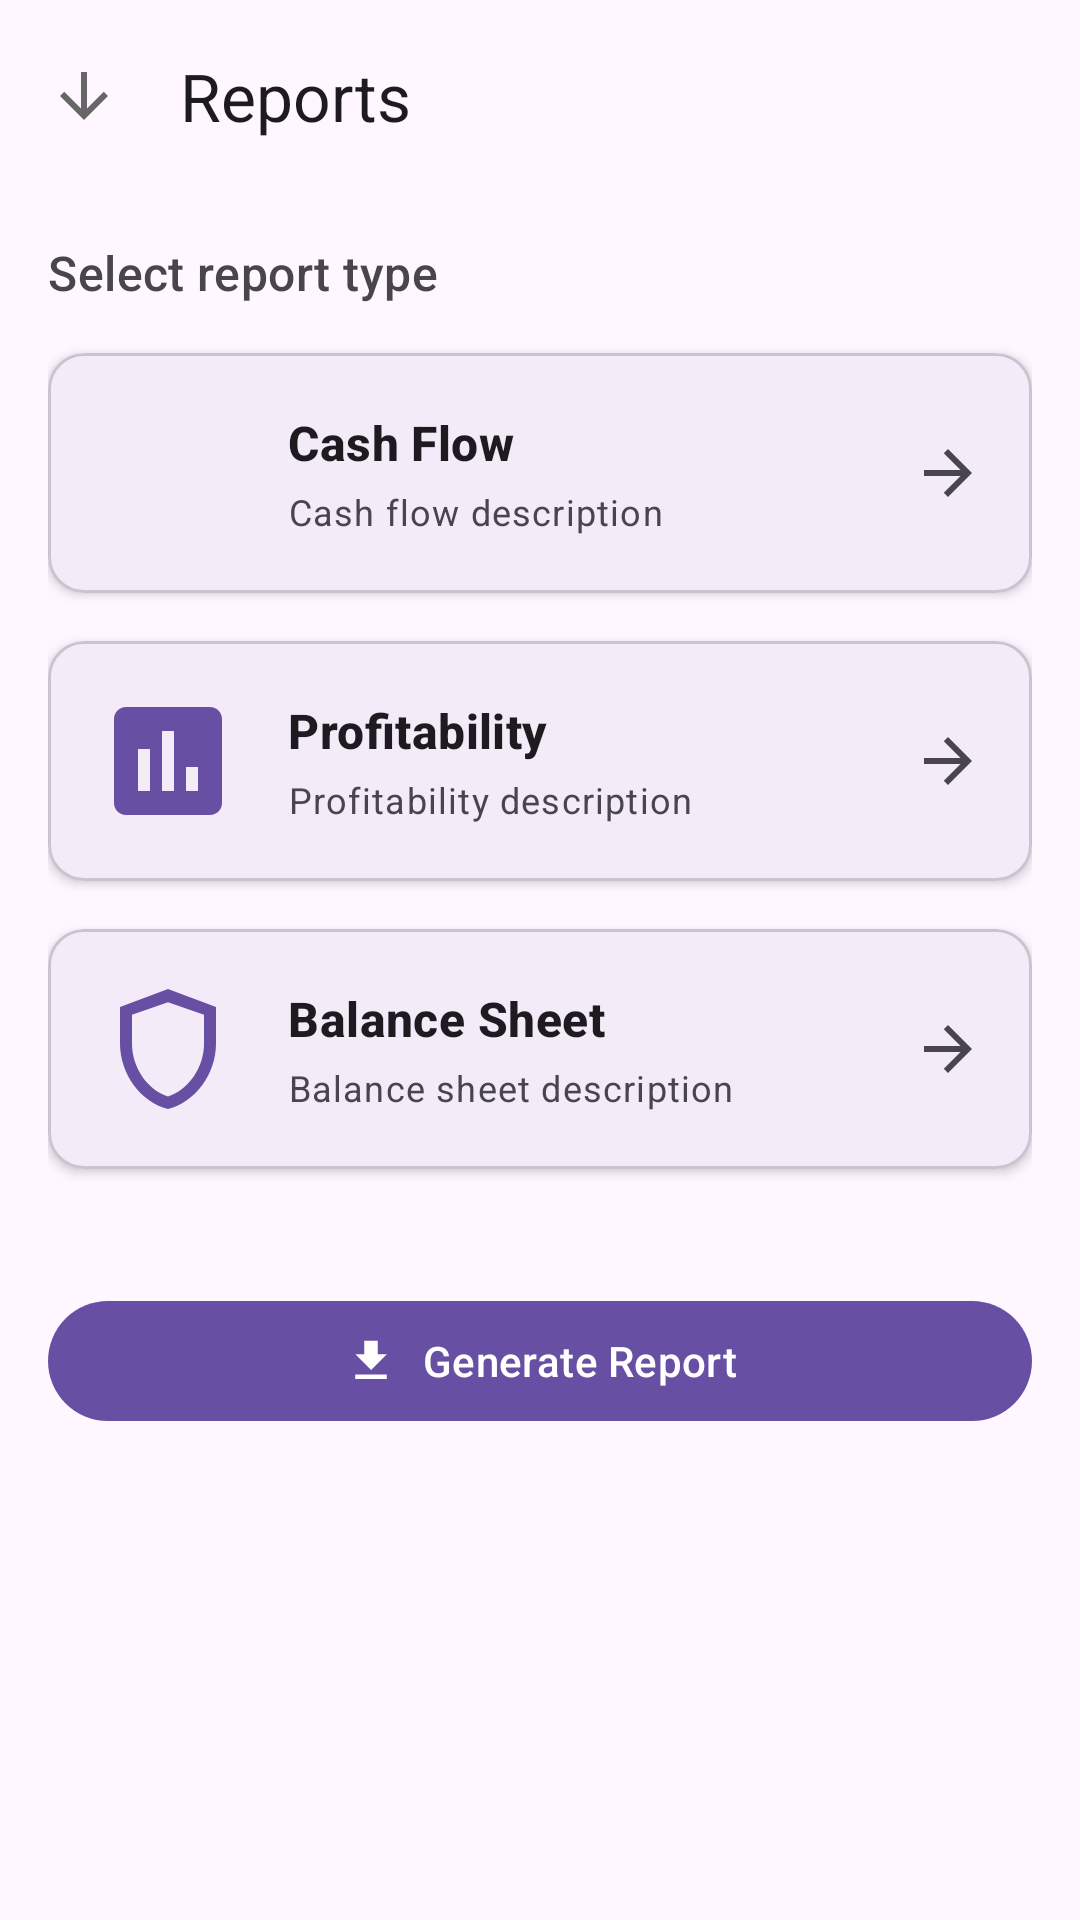

Where to tap for icons on this 1080 × 1920 app screen, as point (x, y):
Navigate: point (948, 473), point (948, 761), point (948, 1049)
